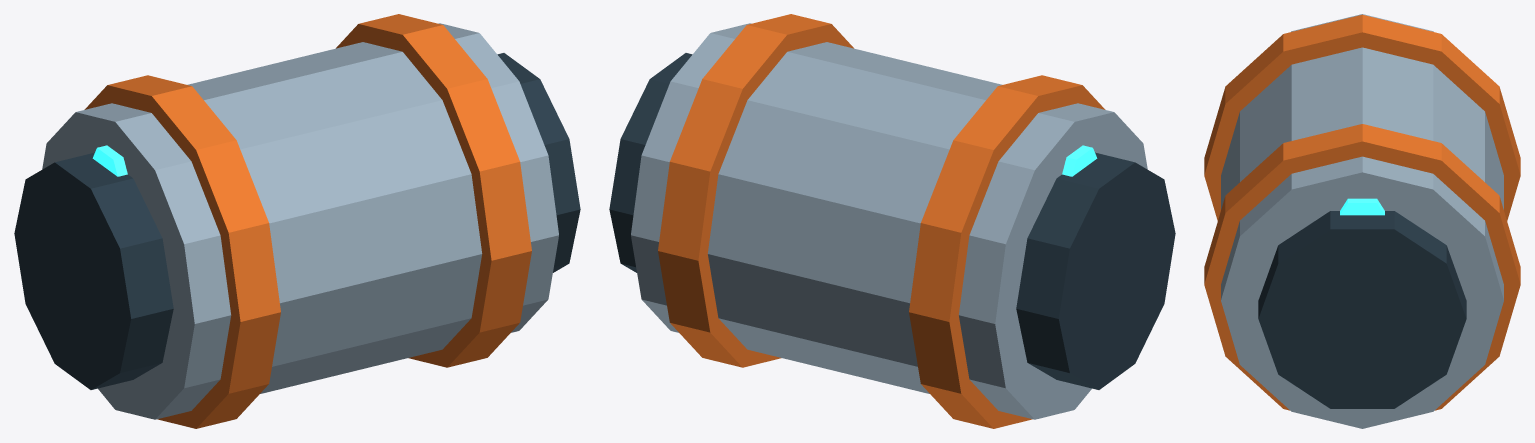
File: rotating_cylinder_machine.glb
3 renders of one model, left to right at view 1: azimuth 30°, elevation 25°; view 2: azimuth 150°, elevation 25°; view 3: azimuth 270°, elevation 25°, orthographic. The views are drawn at different scales.
Visible parts, largest first — view 1: rotating_cylinder_machine; view 2: rotating_cylinder_machine; view 3: rotating_cylinder_machine.
Part boxes in pixels (box(x1,y1,x2,y2)): rotating_cylinder_machine: box(14, 14, 580, 428); rotating_cylinder_machine: box(609, 14, 1175, 428); rotating_cylinder_machine: box(1204, 14, 1520, 428).
Bounding box in the file's own units: 2.22 × 1.52 × 1.52.
